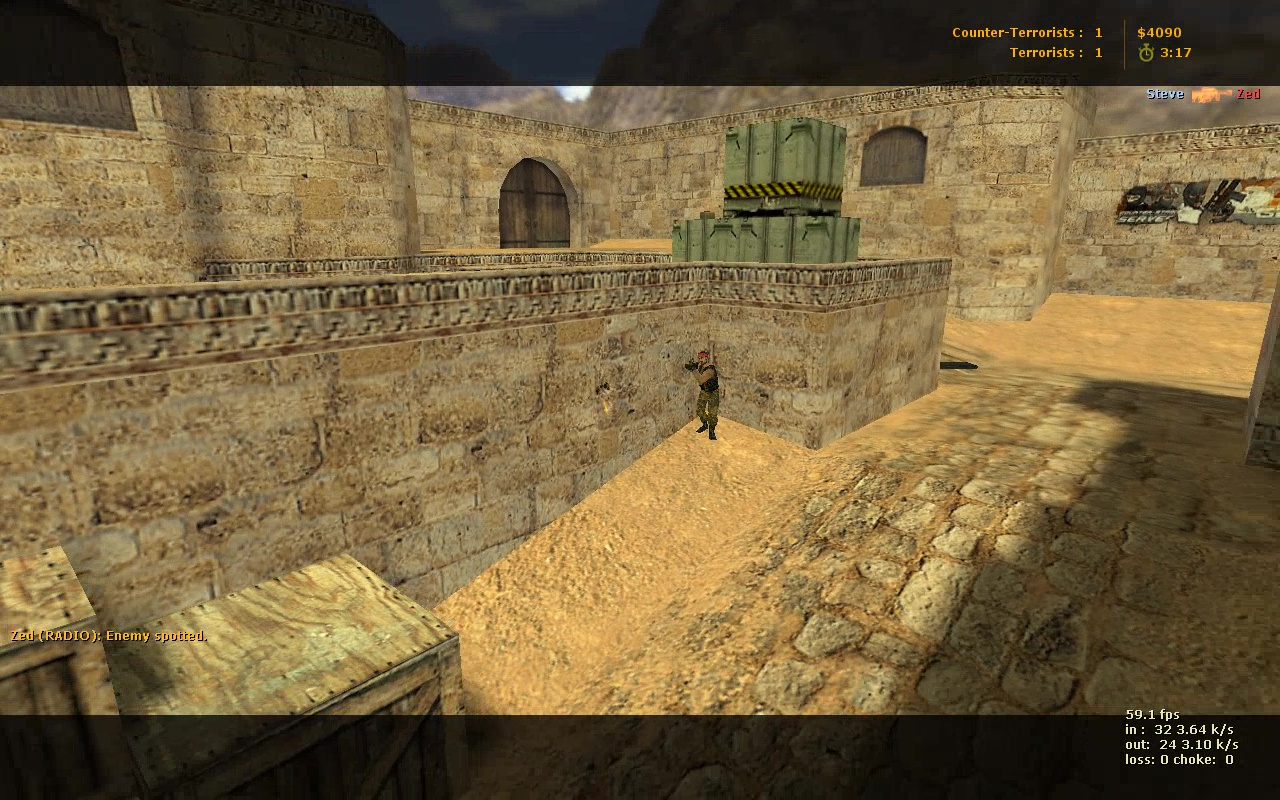terr1: (684, 349, 721, 441)
